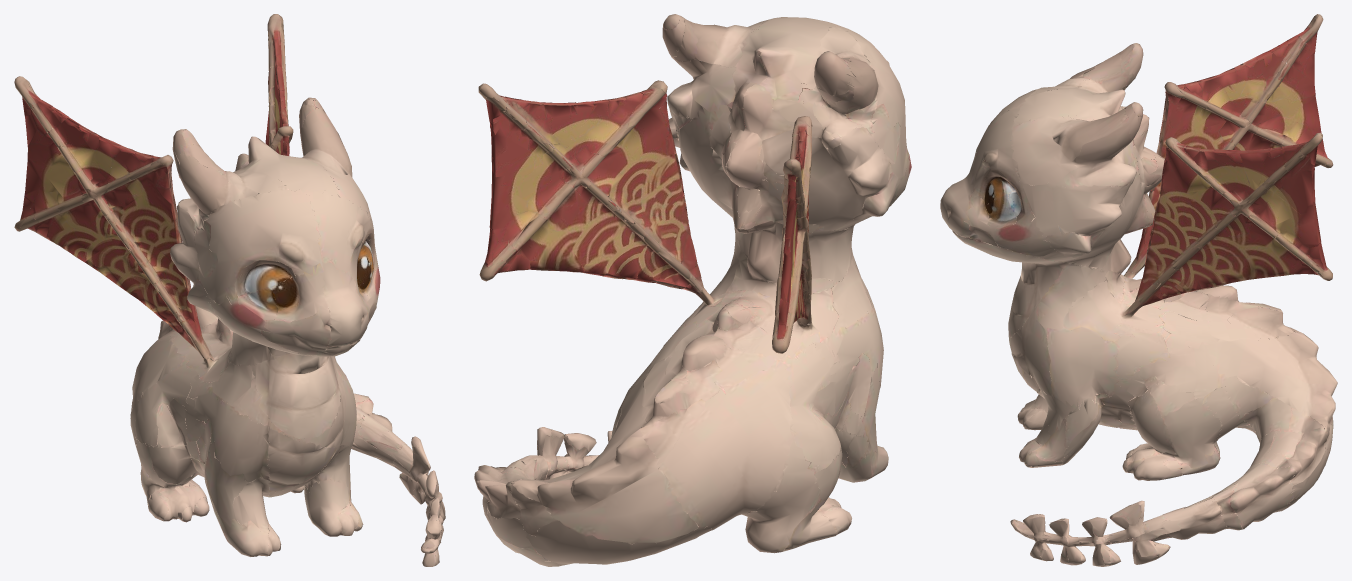
3 renders of one model, left to right at view 1: azimuth 30°, elevation 25°; view 2: azimuth 150°, elevation 25°; view 3: azimuth 270°, elevation 25°, orthographic. The views are drawn at different scales.
Parts seen in each view (by area): view 1: Mesh_0; view 2: Mesh_0; view 3: Mesh_0.
Part boxes in pixels (box(x1,y1,x2,y2)): Mesh_0: box(14, 14, 445, 566); Mesh_0: box(474, 14, 911, 566); Mesh_0: box(940, 14, 1337, 566).
Size of the model in its own units: 1.42 by 1.9 by 1.61.
1 material, 1 textured.
